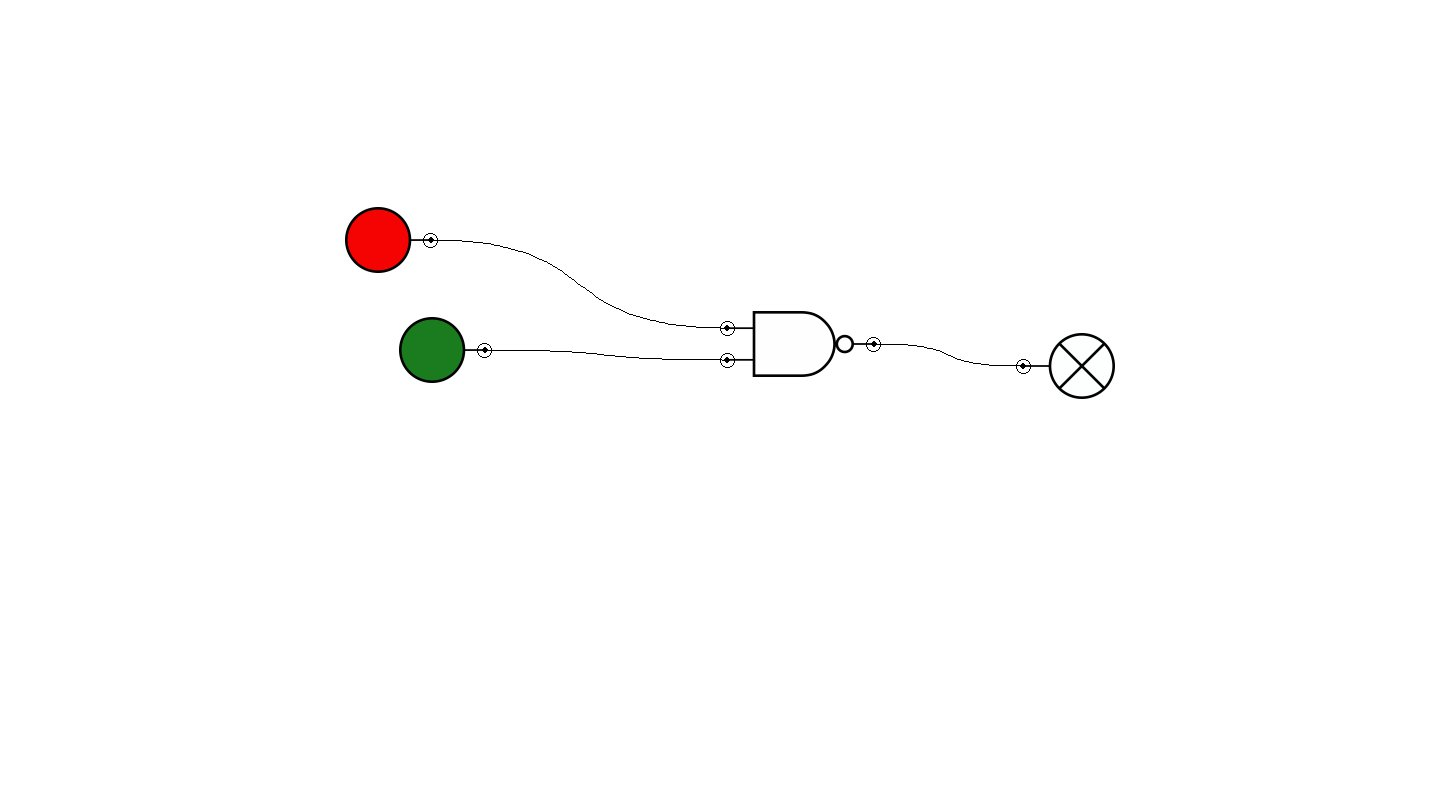bulb: (1016, 333, 1115, 399)
nand: (720, 311, 881, 377)
switch_False: (345, 207, 438, 273)
switch_True: (399, 317, 492, 383)
